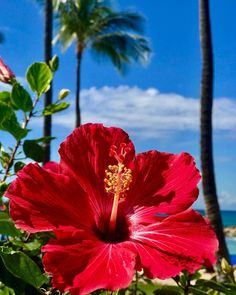Hibiscus: (5, 119, 225, 293), (1, 53, 21, 98), (47, 48, 63, 78)
